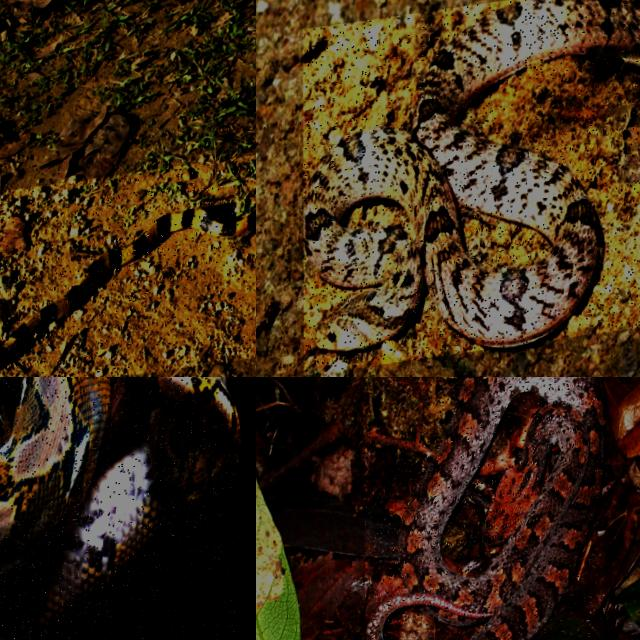Bungarus fasciatus: (0, 207, 255, 369)
Calloselasma rhodostoma: (304, 0, 639, 352)
Malayopython reticulatus: (0, 377, 239, 639)
Ovophis monticola: (365, 377, 604, 639)
snake: (304, 0, 639, 352), (0, 377, 239, 639), (365, 377, 604, 639), (0, 207, 255, 369)
